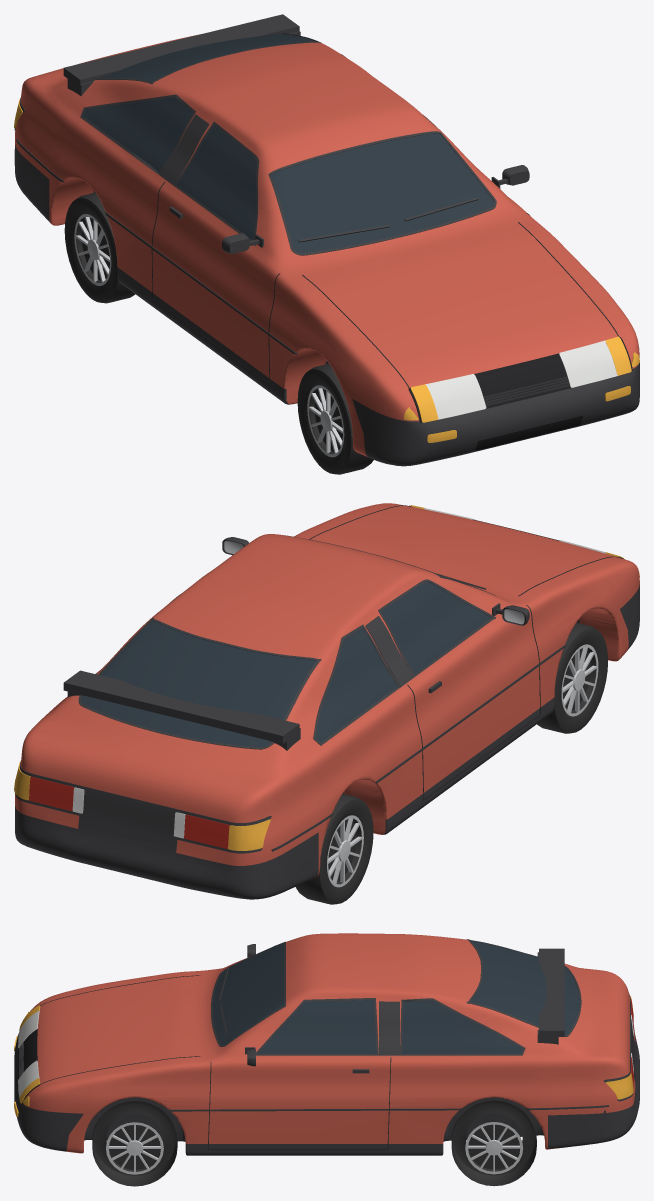
3 renders of one model, top to bottom at view 1: azimuth 30°, elevation 25°; view 2: azimuth 150°, elevation 25°; view 3: azimuth 270°, elevation 25°, orthographic. The views are drawn at different scales.
Visible parts, largest first — view 1: paint, glass, trim, wheel_fr, wheel_rr, headlights, mirrors, front_blinker_right, front_blinker_left; view 2: paint, glass, trim, wheel_rr, wheel_fr, taillights, rear_blinker_right, mirrors; view 3: paint, glass, trim, wheel_fl, wheel_rl, headlights, rear_blinker_left.
Part boxes in pixels (x1,y1,x2,y2): paint: (14, 34, 639, 466); glass: (83, 33, 493, 252); trim: (14, 14, 632, 450); wheel_fr: (297, 363, 373, 474); wheel_rr: (64, 192, 135, 303); headlights: (425, 340, 617, 419); mirrors: (222, 165, 529, 253); front_blinker_right: (403, 384, 456, 442); front_blinker_left: (605, 336, 639, 401); paint: (15, 503, 639, 899); glass: (81, 573, 491, 747); trim: (15, 505, 623, 853); wheel_rr: (296, 794, 373, 904); wheel_fr: (537, 623, 607, 733); taillights: (29, 776, 229, 848); rear_blinker_right: (228, 819, 270, 850); mirrors: (222, 537, 529, 625); paint: (14, 933, 639, 1155); glass: (213, 940, 579, 1054); trim: (18, 939, 636, 1149); wheel_fl: (92, 1101, 177, 1186); wheel_rl: (451, 1100, 536, 1186); headlights: (18, 1010, 39, 1097); rear_blinker_left: (605, 1073, 633, 1099).
Bounding box in the file's own units: 1.8 × 1.33 × 4.18.
